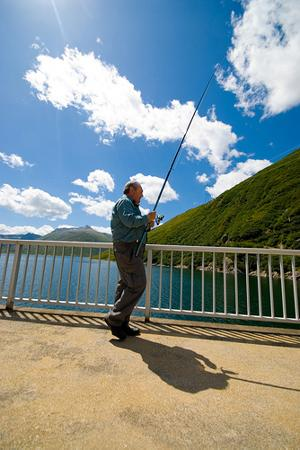person: (104, 179, 157, 342)
